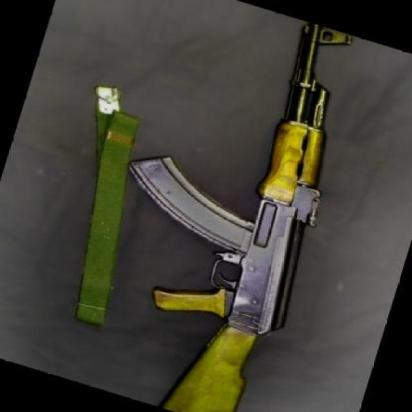Gun: (124, 13, 354, 412)
